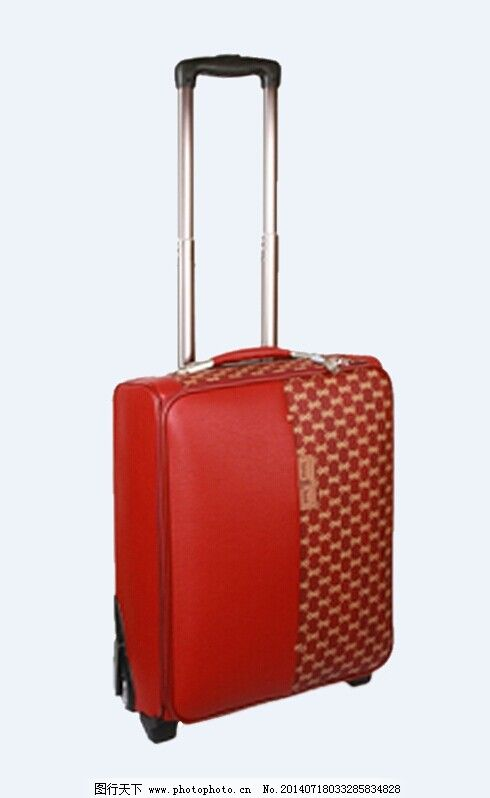suitcase: (111, 53, 398, 748)
